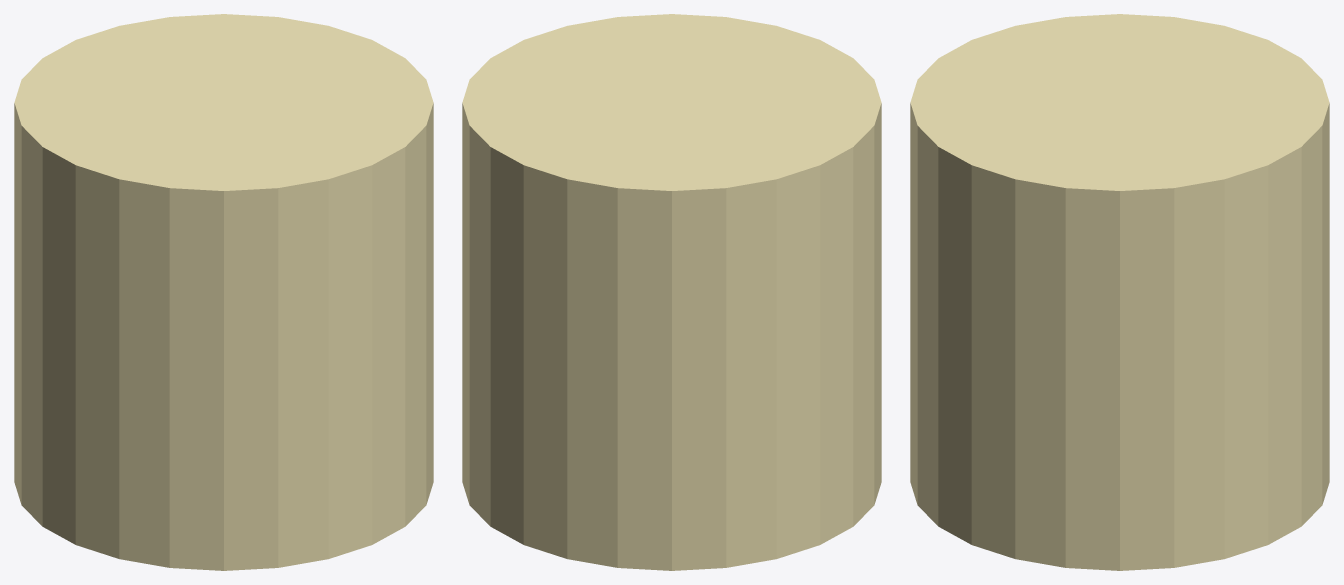
The model's file is pendant_globe_16.glb.
3 renders of one model, left to right at view 1: azimuth 30°, elevation 25°; view 2: azimuth 150°, elevation 25°; view 3: azimuth 270°, elevation 25°, orthographic.
Bounding box in the file's own units: 0.4064 × 0.4064 × 0.4064.
